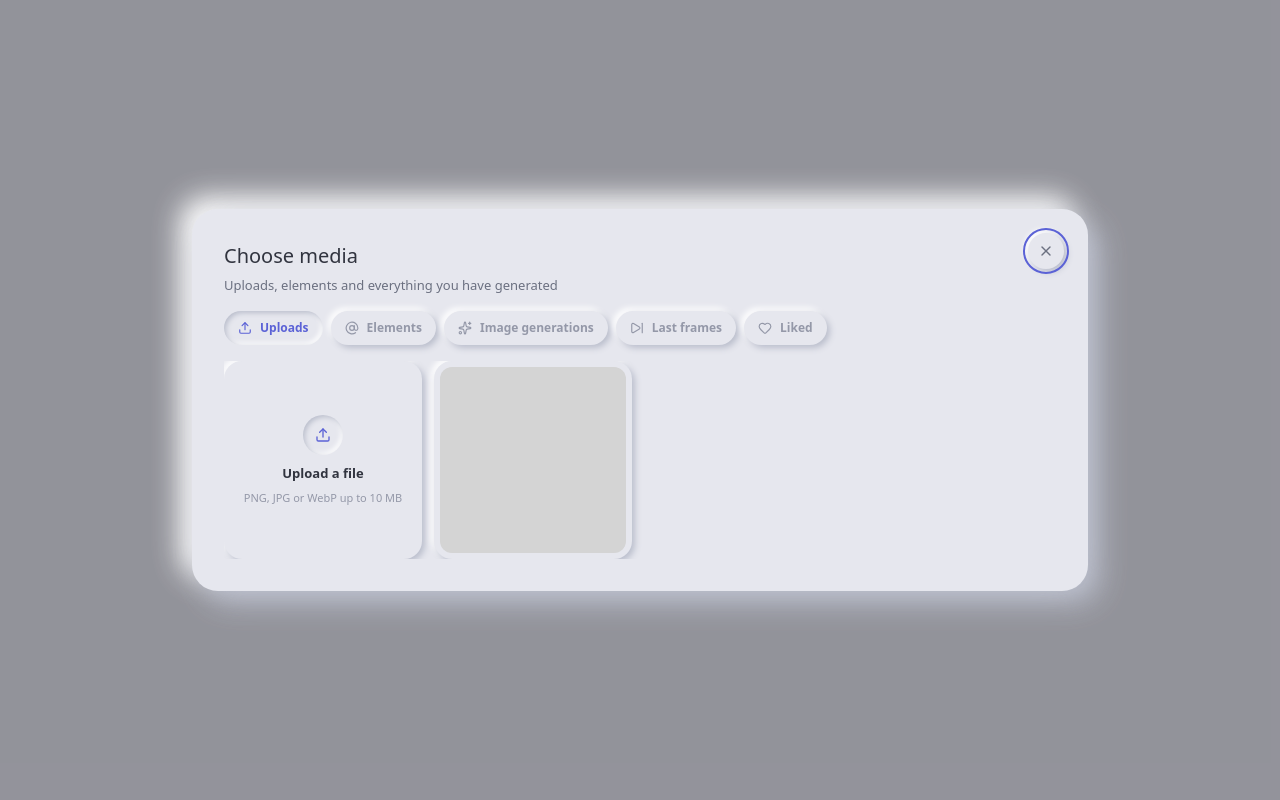
MediaPicker › says nothing matched instead of claiming the library is empty
The image size is (1280, 800).
Click the tab "Elements" at (383, 328), box [331,311,436,345]
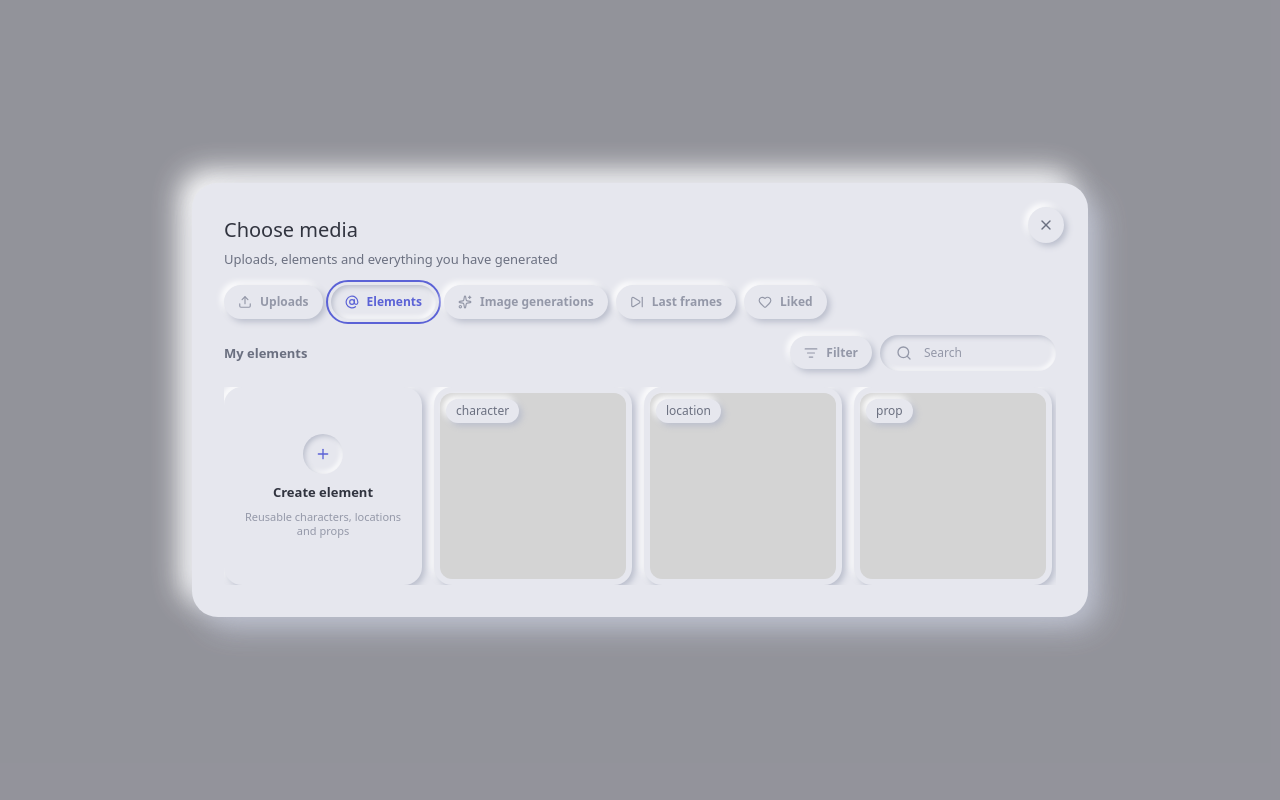
Type "zzz" into the search field labelled "Search" at (968, 353), box [880,335,1056,371]
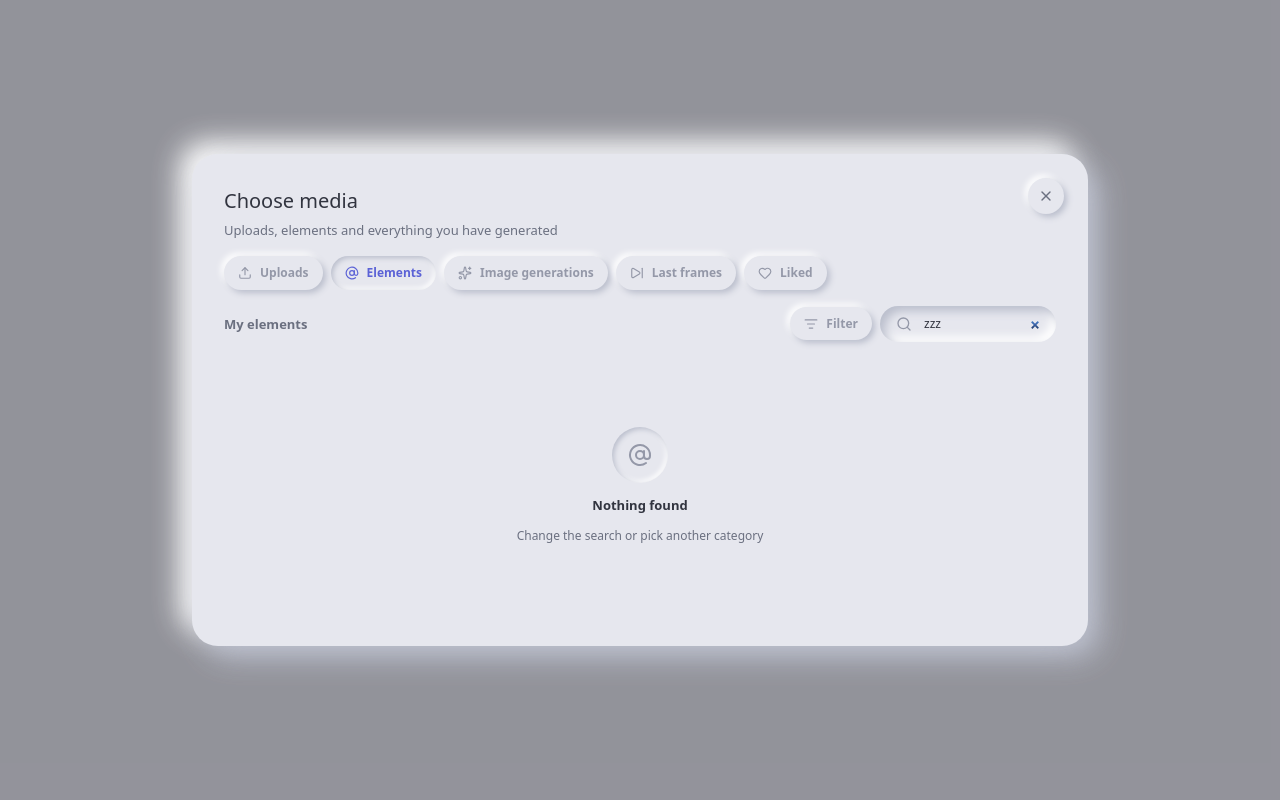
Expected: the text "Nothing found" is shown, [592,495,688,515]
